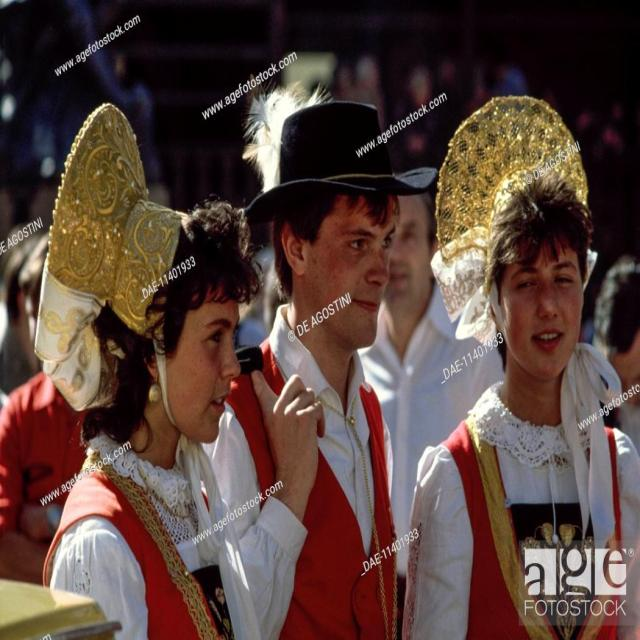hat: (245, 103, 434, 353)
